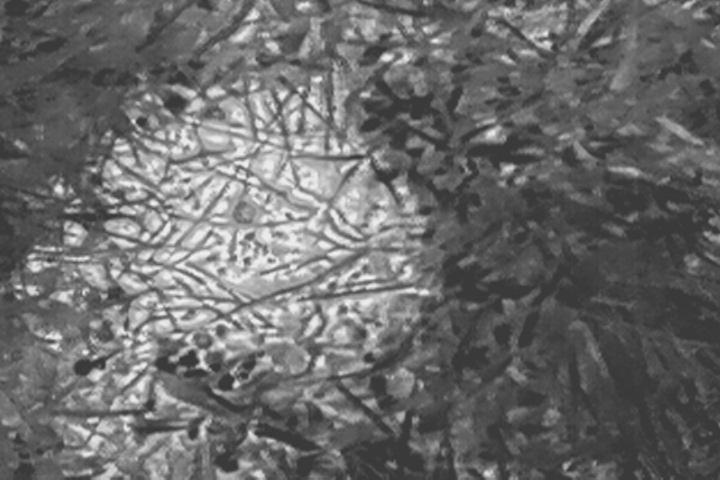landmine: (97, 90, 439, 386)
